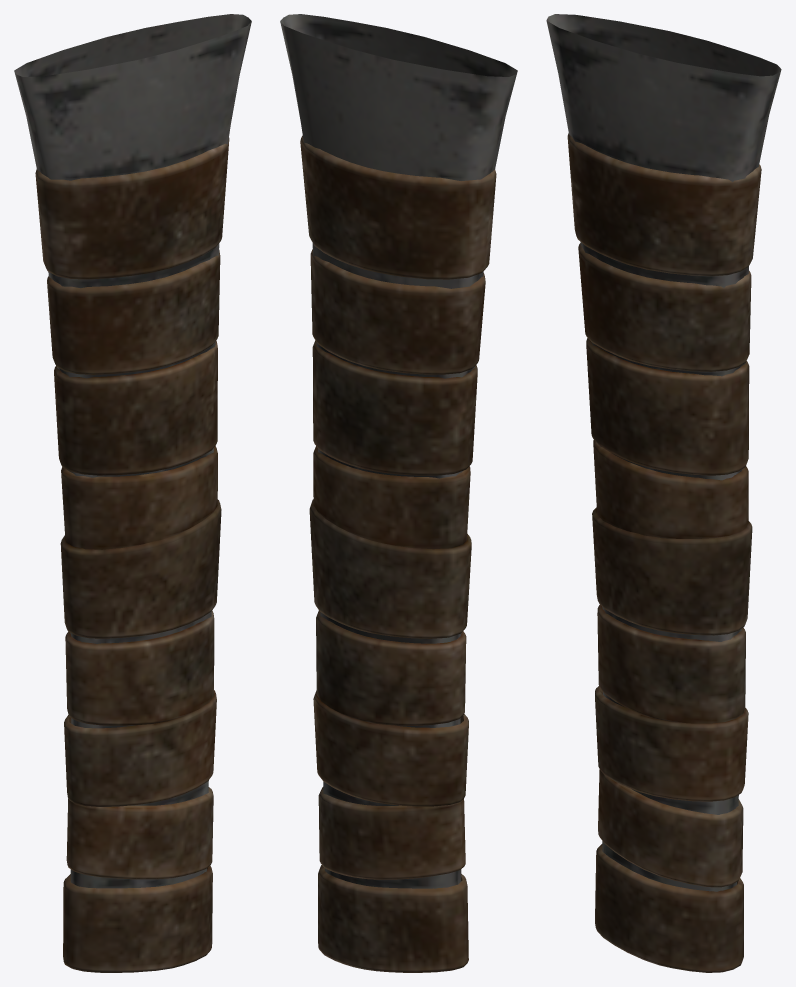
Rendered from wm_mordor_set1_sword_a01_handle.fbx.
3 renders of one model, left to right at view 1: azimuth 30°, elevation 25°; view 2: azimuth 150°, elevation 25°; view 3: azimuth 330°, elevation 25°, orthographic.
Visible parts, largest first — view 1: wm_mordor_set1_sword_a01_handle; view 2: wm_mordor_set1_sword_a01_handle; view 3: wm_mordor_set1_sword_a01_handle.
Boxes of the visible parts, box(x1,y1,x2,y2) form: wm_mordor_set1_sword_a01_handle: box(14, 14, 251, 972); wm_mordor_set1_sword_a01_handle: box(280, 14, 517, 972); wm_mordor_set1_sword_a01_handle: box(546, 14, 781, 972).
Size of the model in its own units: 0.0594 by 0.0246 by 0.2236.
Materials: 1 (1 with a texture image).
